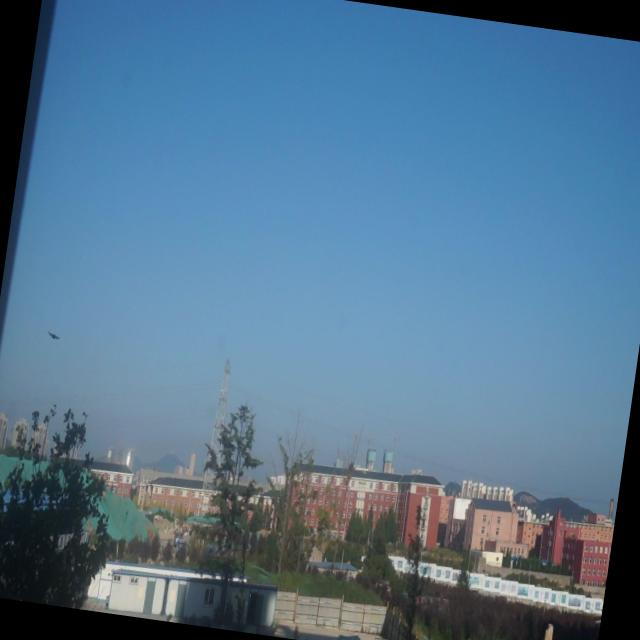drone: (46, 328, 62, 346)
